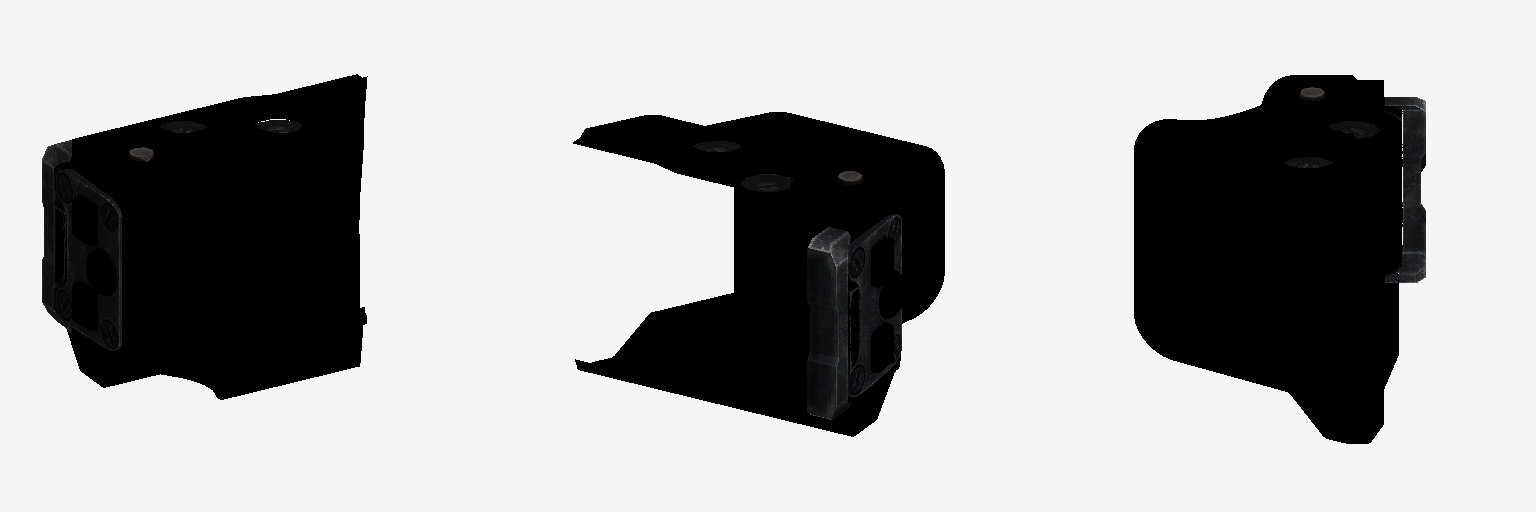
3 views of the same model, side by side, from view 1: azimuth 30°, elevation 25°; view 2: azimuth 150°, elevation 25°; view 3: azimuth 270°, elevation 25° (orthographic).
Parts seen in each view (by area): view 1: mtl_t6_attach_optic_holo, mtl_t6_attach_optic_holo_camo3, mtl_t6_attach_optic_holo_camo2; view 2: mtl_t6_attach_optic_holo, mtl_t6_attach_optic_holo_camo2, mtl_t6_attach_optic_holo_camo3, mtl_t6_attach_optic_holo_reticle; view 3: mtl_t6_attach_optic_holo, mtl_t6_attach_optic_holo_reticle, mtl_t6_attach_optic_holo_camo2, mtl_t6_attach_optic_holo_camo3.
Part boxes in pixels (left/top/right/bottom): mtl_t6_attach_optic_holo: left=63, top=74, right=367, bottom=399; mtl_t6_attach_optic_holo_camo3: left=135, top=216, right=359, bottom=377; mtl_t6_attach_optic_holo_camo2: left=42, top=120, right=302, bottom=350; mtl_t6_attach_optic_holo: left=573, top=112, right=944, bottom=436; mtl_t6_attach_optic_holo_camo2: left=693, top=141, right=901, bottom=419; mtl_t6_attach_optic_holo_camo3: left=734, top=163, right=934, bottom=316; mtl_t6_attach_optic_holo_reticle: left=795, top=203, right=808, bottom=326; mtl_t6_attach_optic_holo: left=1134, top=75, right=1401, bottom=443; mtl_t6_attach_optic_holo_reticle: left=1139, top=167, right=1286, bottom=301; mtl_t6_attach_optic_holo_camo2: left=1284, top=87, right=1425, bottom=282; mtl_t6_attach_optic_holo_camo3: left=1152, top=188, right=1269, bottom=339.
Bounding box in the file's own units: 6.58 × 4.97 × 5.6.
Materials: 5 (1 with a texture image).